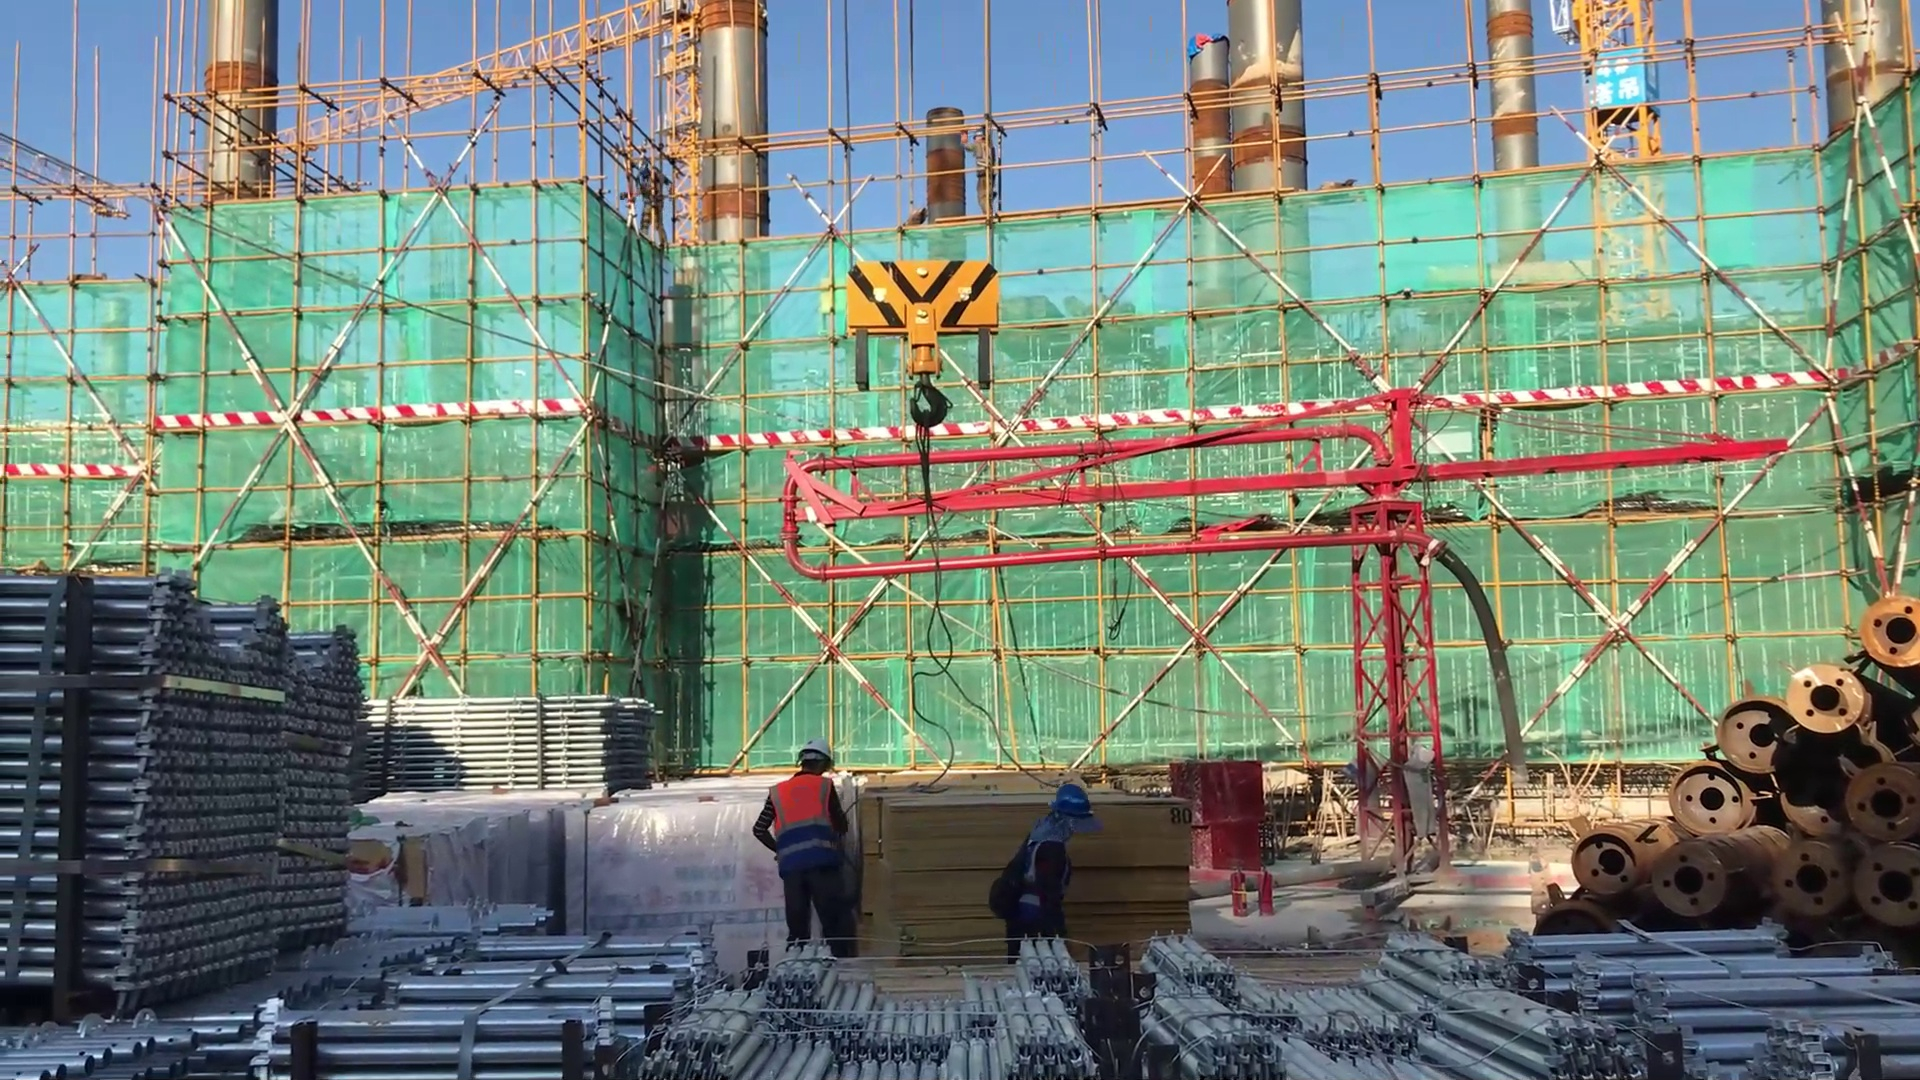board: (873, 788, 1191, 972)
helmet: (1045, 772, 1093, 831), (780, 741, 837, 777), (973, 122, 991, 143)
hook: (809, 235, 1040, 534)
person: (751, 735, 856, 967), (989, 778, 1096, 991), (963, 121, 1006, 222)
scaffold: (1, 560, 366, 1009), (1, 877, 550, 1077), (1122, 923, 1622, 1080), (675, 926, 1102, 1080), (1505, 921, 1915, 1080), (333, 926, 719, 1078), (369, 688, 673, 810)
slogan: (1584, 52, 1656, 126)
vest: (767, 776, 846, 880), (1006, 825, 1071, 934), (973, 140, 996, 180)
